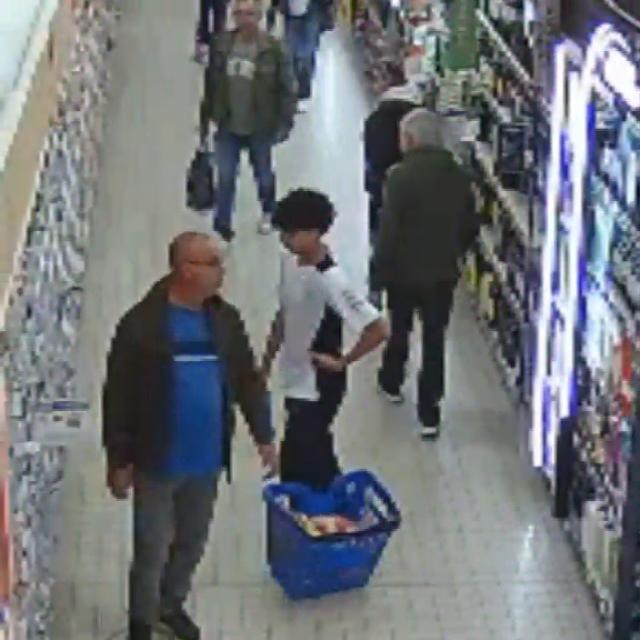bags: (187, 149, 215, 211)
hands: (107, 466, 133, 500), (257, 443, 279, 477), (311, 352, 346, 373), (260, 354, 272, 385), (274, 127, 290, 145), (266, 6, 276, 32), (198, 134, 209, 151)
person: (103, 233, 277, 639), (263, 189, 389, 490), (375, 108, 478, 437), (200, 0, 296, 241), (364, 75, 422, 247)
